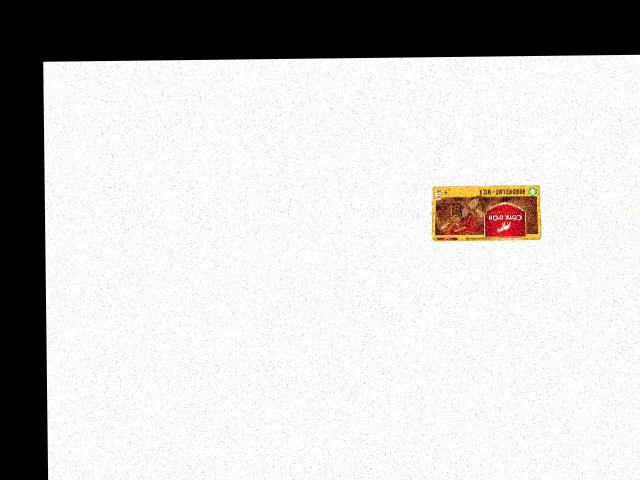chocolate: (429, 175, 541, 244)
